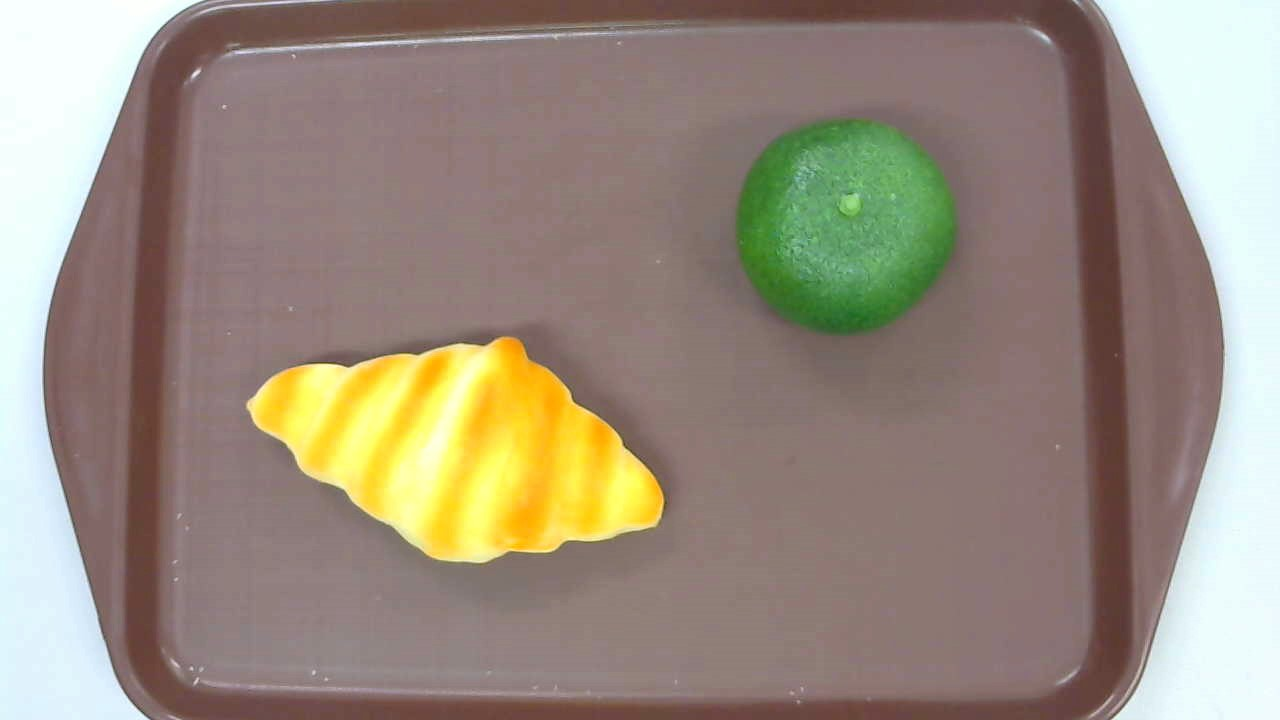croissant: (246, 335, 665, 563)
green orange: (737, 120, 959, 337)
